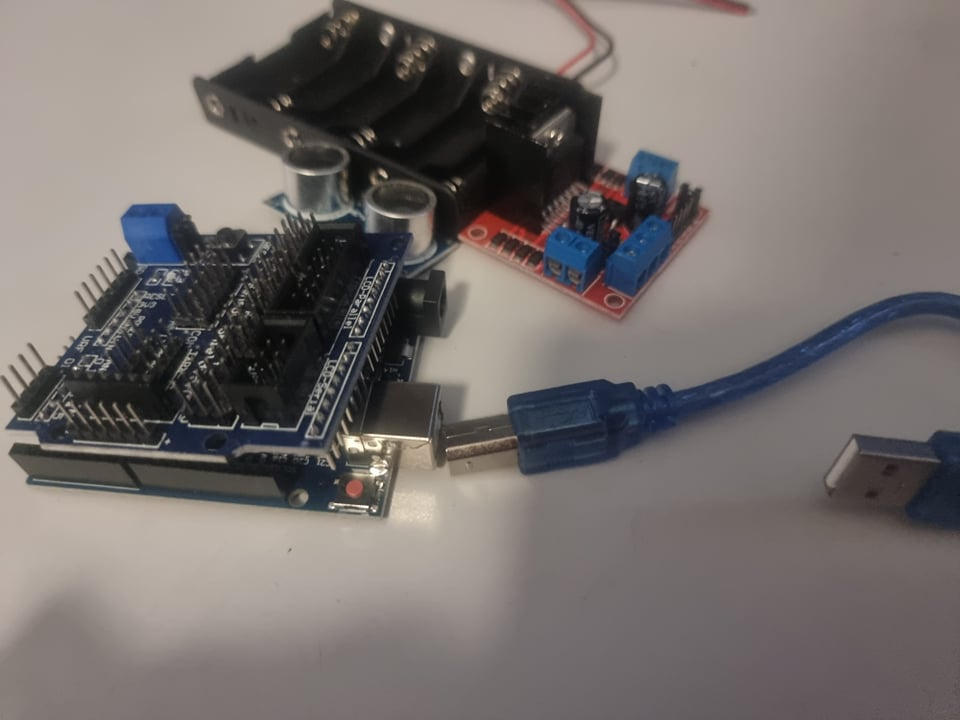5V EXPANSION: (6, 202, 393, 456)
BATTERY BOX: (188, 4, 604, 206)
MOTOR: (467, 88, 716, 321)
SENSOR: (259, 139, 453, 272)
UNO R3: (343, 277, 450, 536)
